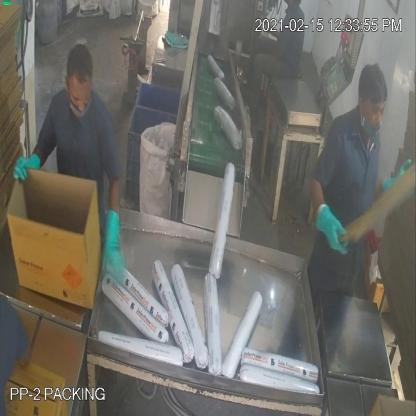glove: (311, 192, 358, 262), (95, 200, 131, 288), (5, 146, 48, 188)
